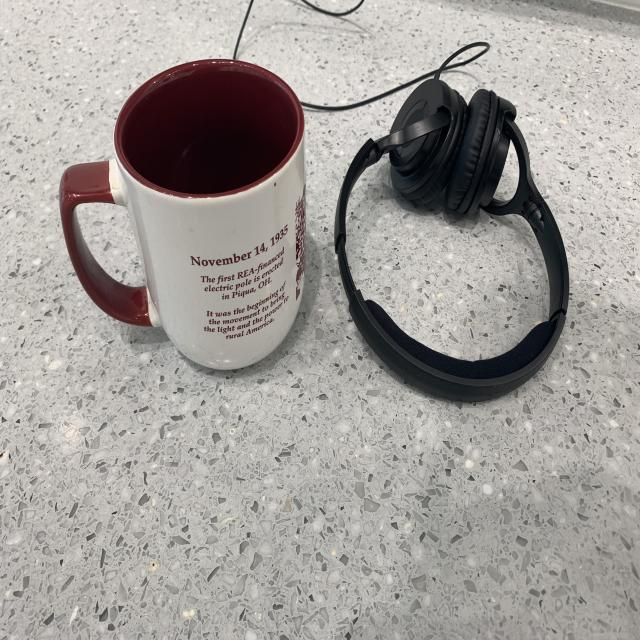Cup: (48, 50, 323, 385)
